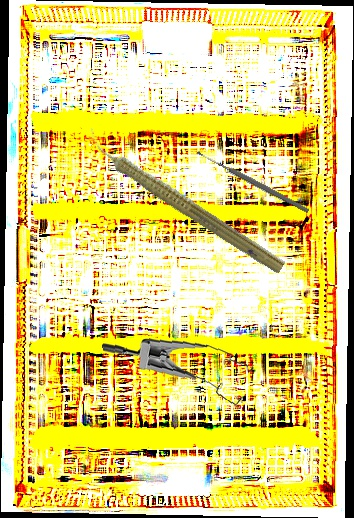Handpiece: (77, 125, 291, 279)
Speculum: (101, 328, 257, 418)
Surgical Spoon: (195, 148, 311, 215)
